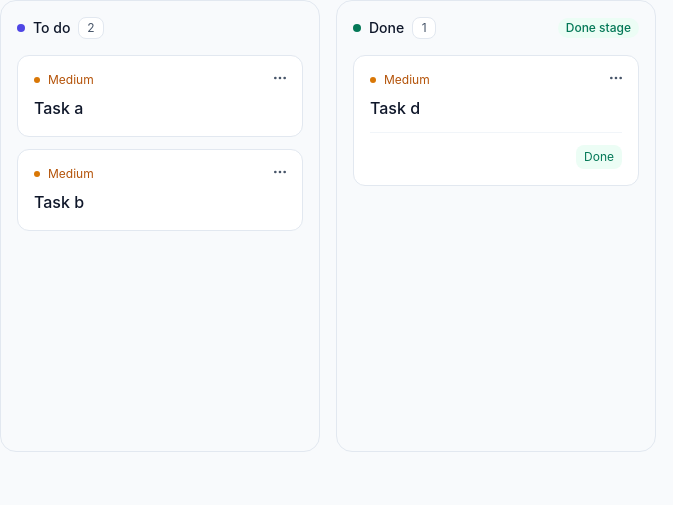
KanbanBoard moves from the menu › puts the card back with a generic message when the request itself fails
Click the button named "Move options for Task b": point(280, 172) top-left (266, 158), bottom-right (294, 186)
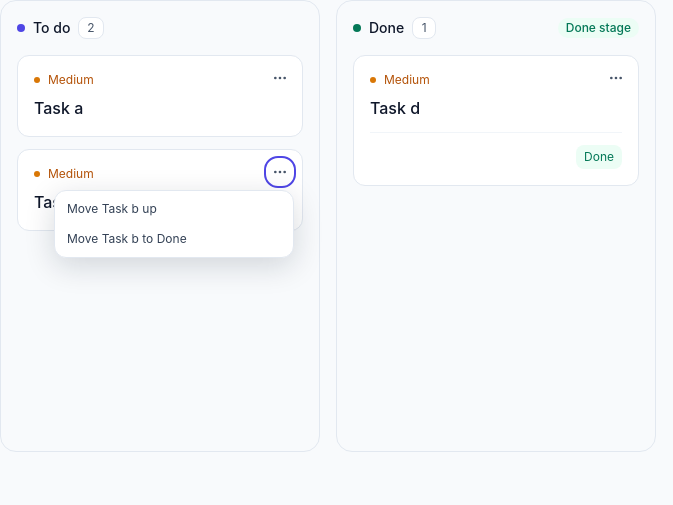
Click the button "Move Task b up": point(174, 209) top-left (59, 195), bottom-right (289, 223)
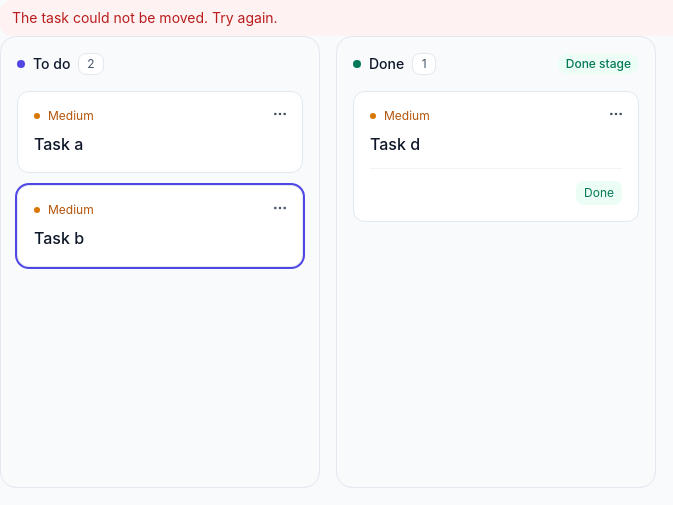
Result: the message named "Board updates" reads "The task could not be moved. Try again." at top-left (12, 9), bottom-right (278, 26)
